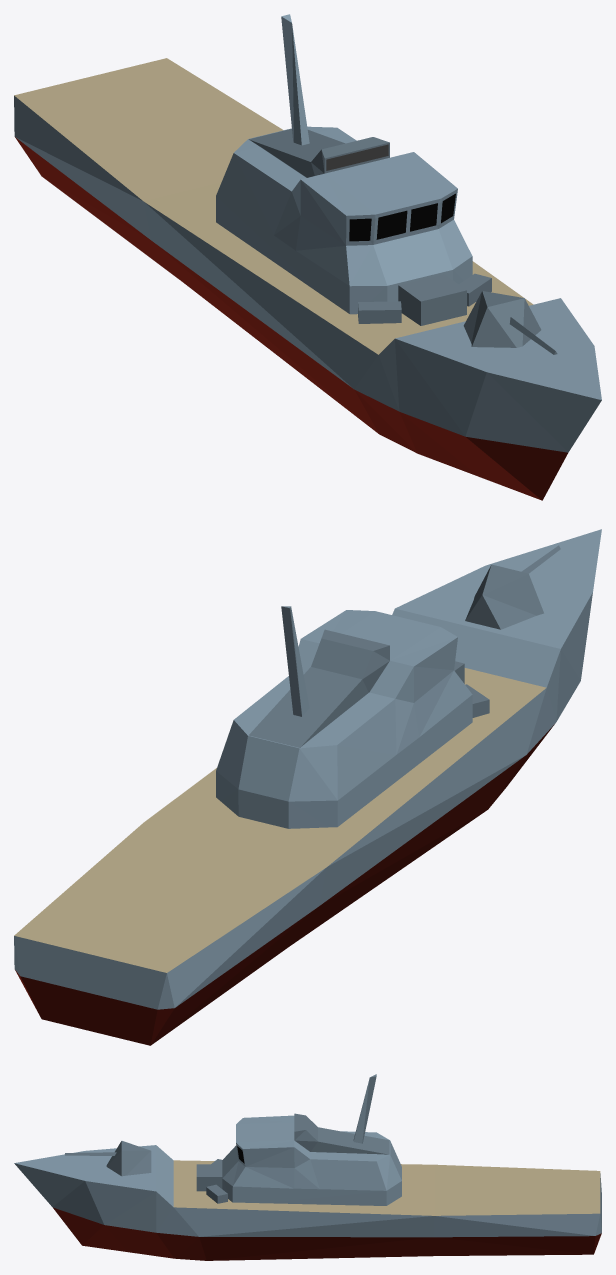
Rendered from Ship1.fbx.
3 renders of one model, top to bottom at view 1: azimuth 30°, elevation 25°; view 2: azimuth 150°, elevation 25°; view 3: azimuth 270°, elevation 25°, orthographic. The views are drawn at different scales.
Parts seen in each view (by area): view 1: Ship_platform, Pilothouse, Box, Cube, Funnel, Anten, Funnel.001; view 2: Ship_platform, Pilothouse, Funnel, Cube, Anten; view 3: Ship_platform, Pilothouse, Funnel, Cube, Box, Anten.
Part boxes in pixels (box(x1,y1,x2,y2)): Ship_platform: box(14, 58, 601, 500); Pilothouse: box(216, 126, 472, 314); Box: box(358, 273, 491, 325); Cube: box(463, 291, 557, 354); Funnel: box(249, 129, 389, 177); Anten: box(281, 14, 309, 145); Funnel.001: box(326, 144, 388, 170); Ship_platform: box(14, 529, 601, 1045); Pilothouse: box(216, 610, 472, 828); Funnel: box(248, 629, 389, 747); Cube: box(465, 545, 560, 629); Anten: box(281, 606, 309, 716); Ship_platform: box(14, 1145, 601, 1260); Pilothouse: box(222, 1115, 401, 1205); Funnel: box(294, 1113, 389, 1154); Cube: box(65, 1141, 151, 1176); Box: box(196, 1159, 227, 1203); Anten: box(353, 1074, 376, 1143).
Size of the model in its own units: 99.83 by 155 by 484.
